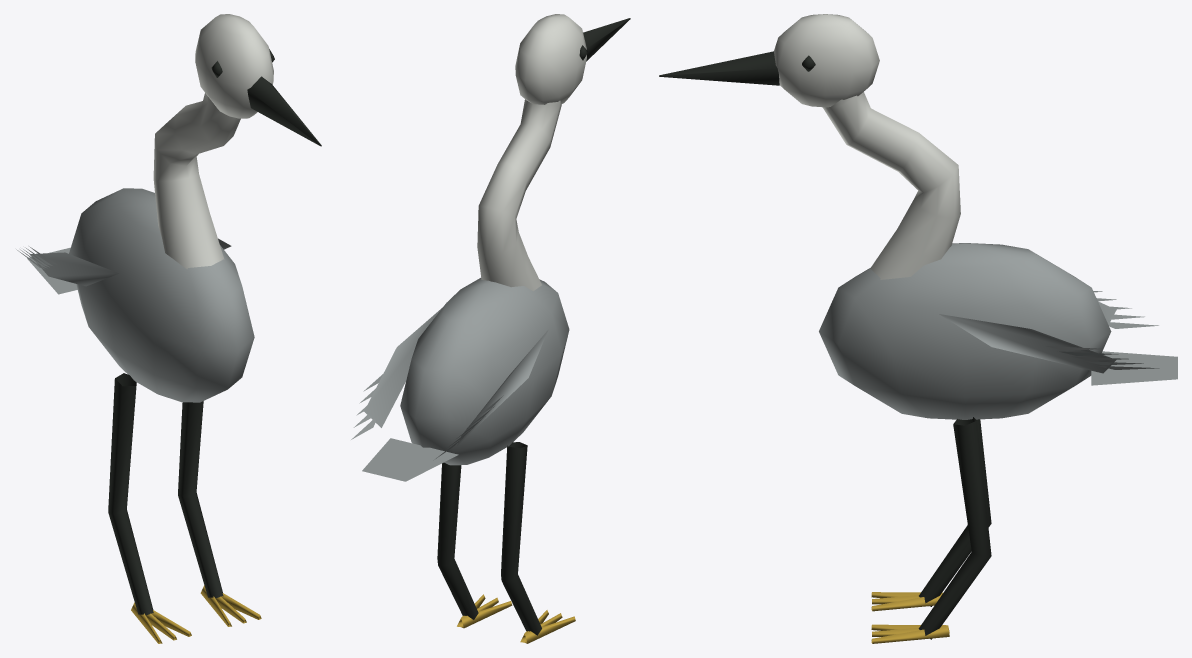
File: grey-heron-0.glb
3 views of the same model, side by side, from view 1: azimuth 30°, elevation 25°; view 2: azimuth 150°, elevation 25°; view 3: azimuth 270°, elevation 25° (orthographic). The views are drawn at different scales.
Parts seen in each view (by area): view 1: grey-heron; view 2: grey-heron; view 3: grey-heron.
Part boxes in pixels (bbox=[...]): grey-heron: bbox=[16, 14, 321, 643]; grey-heron: bbox=[351, 14, 630, 643]; grey-heron: bbox=[659, 14, 1177, 643].
Size of the model in its own units: 0.2381 by 1.16 by 0.8955.
